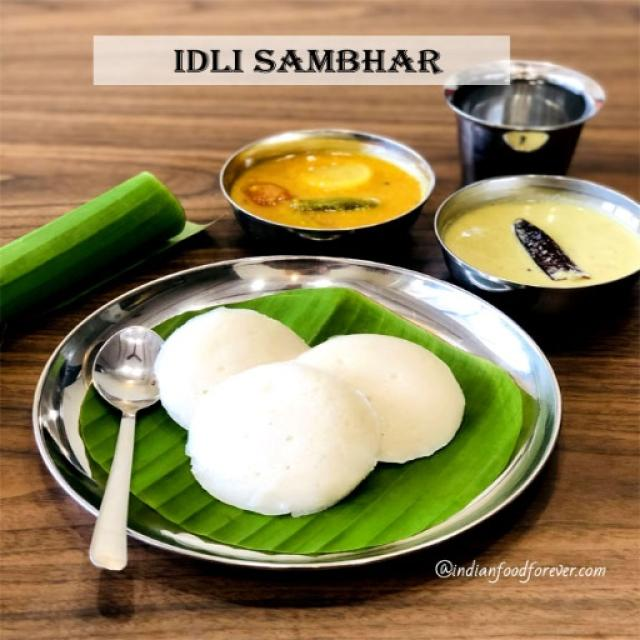IDLI: (155, 308, 464, 515)
SAMBAR: (220, 130, 435, 249)
WHITE CHUTNEY: (435, 175, 639, 291)
